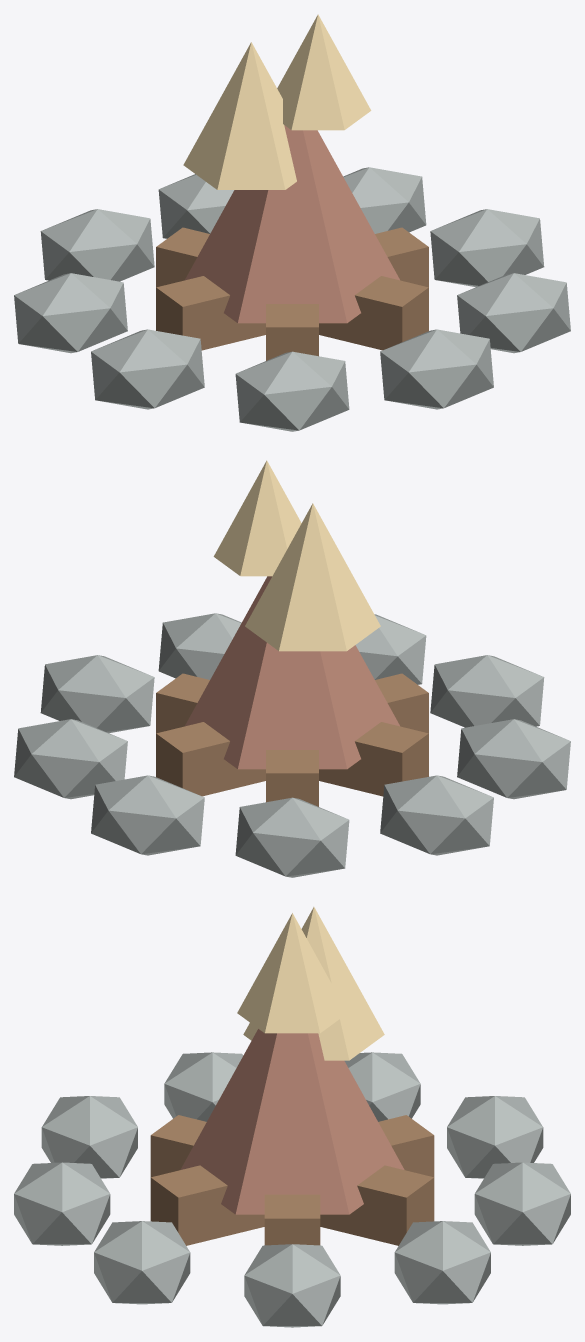
File: campfire.glb
3 renders of one model, top to bottom at view 1: azimuth 30°, elevation 25°; view 2: azimuth 150°, elevation 25°; view 3: azimuth 270°, elevation 25°, orthographic. The views are drawn at different scales.
Visible parts, largest first — view 1: Fire flame, Fire flame.001, Fire ring stone.005, Fire ring stone.006, Fire ring stone.004, Fire ring stone.007, Campfire log.002, Fire ring stone, Fire ring stone.008, Campfire log, Fire ring stone.003, Fire flame.002 (+3 smaller); view 2: Fire flame, Fire flame.001, Fire ring stone.003, Fire ring stone.004, Fire ring stone.005, Fire ring stone.002, Campfire log.001, Fire ring stone, Fire ring stone.001, Campfire log, Fire ring stone.006, Fire flame.002 (+3 smaller); view 3: Fire flame, Campfire log.001, Campfire log.002, Fire flame.002, Fire ring stone, Fire ring stone.002, Fire ring stone.007, Fire ring stone.001, Fire ring stone.008, Fire ring stone.003, Fire ring stone.006, Fire flame.001 (+3 smaller).
Part boxes in pixels (bbox=[...]): Fire flame: bbox=[185, 125, 399, 323]; Fire flame.001: bbox=[183, 42, 296, 189]; Fire ring stone.005: bbox=[91, 329, 204, 409]; Fire ring stone.006: bbox=[235, 351, 349, 431]; Fire ring stone.004: bbox=[14, 273, 127, 353]; Fire ring stone.007: bbox=[380, 329, 493, 409]; Campfire log.002: bbox=[156, 227, 428, 350]; Fire ring stone: bbox=[430, 209, 544, 287]; Fire ring stone.008: bbox=[457, 273, 570, 353]; Campfire log: bbox=[156, 227, 428, 350]; Fire ring stone.003: bbox=[40, 209, 154, 281]; Fire flame.002: bbox=[277, 14, 371, 130]; Fire flame: bbox=[185, 576, 399, 769]; Fire flame.001: bbox=[245, 503, 380, 651]; Fire ring stone.003: bbox=[235, 797, 349, 877]; Fire ring stone.004: bbox=[380, 775, 493, 855]; Fire ring stone.005: bbox=[457, 719, 570, 799]; Fire ring stone.002: bbox=[91, 775, 204, 855]; Campfire log.001: bbox=[156, 673, 428, 796]; Fire ring stone: bbox=[40, 655, 154, 733]; Fire ring stone.001: bbox=[14, 719, 127, 799]; Campfire log: bbox=[156, 673, 428, 796]; Fire ring stone.006: bbox=[430, 655, 544, 727]; Fire flame.002: bbox=[213, 460, 301, 576]; Fire flame: bbox=[180, 1029, 404, 1214]; Campfire log.001: bbox=[150, 1115, 434, 1245]; Campfire log.002: bbox=[150, 1115, 434, 1245]; Fire flame.002: bbox=[237, 913, 347, 1033]; Fire ring stone: bbox=[244, 1244, 340, 1327]; Fire ring stone.002: bbox=[474, 1162, 570, 1245]; Fire ring stone.007: bbox=[14, 1162, 110, 1245]; Fire ring stone.001: bbox=[394, 1221, 490, 1304]; Fire ring stone.008: bbox=[94, 1221, 190, 1304]; Fire ring stone.003: bbox=[447, 1096, 543, 1178]; Fire ring stone.006: bbox=[41, 1096, 137, 1178]; Fire flame.001: bbox=[243, 907, 384, 1060].
Bounding box in the file's own units: 1.89 × 1.18 × 1.81.
